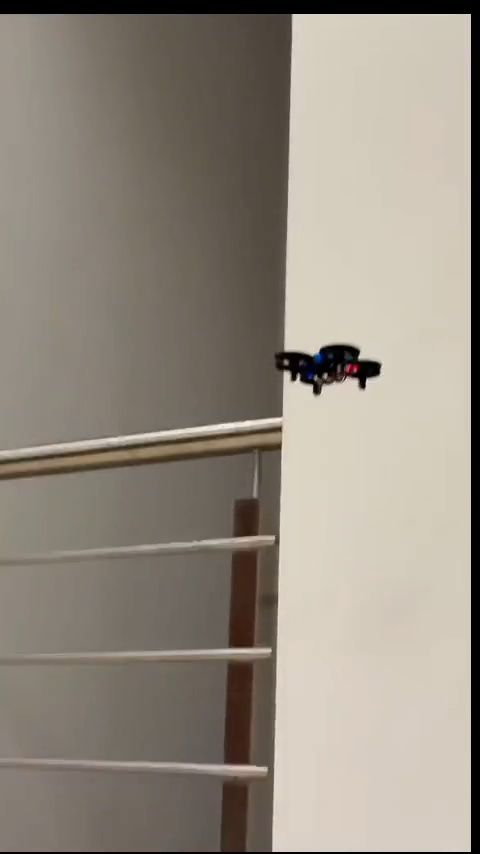drone: (274, 346, 378, 398)
